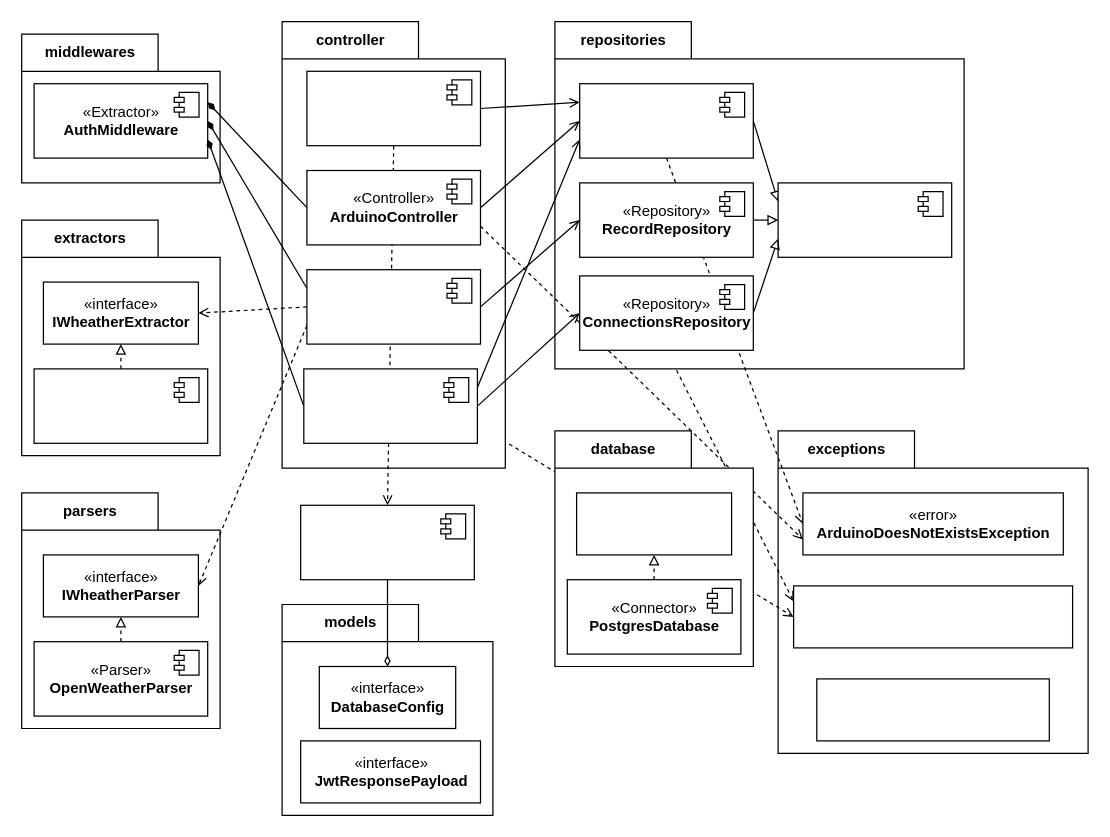
This 1110x837 diagram has some shape labels left out. Each missing label, with the centre of its shape:
"«Controller» AuthController" goes at (x=393, y=108).
"«Controller» ConnectionsController" goes at (x=390, y=405).
"«Controller» RecordController" goes at (x=393, y=306).
"«error» ConnectionDoesNotExistsException" goes at (x=932, y=616).
"«error» MobileDoesNotExistsException" goes at (x=932, y=709).
"«Extractor» OpenWeatherExtractor" goes at (x=120, y=405).
"«interface» IConnector" goes at (x=653, y=523).
"«Repository» ArduinoRepository" goes at (x=665, y=120).
"«Repository» Repository" goes at (x=864, y=219).
"«Src» Config" goes at (x=386, y=542).
